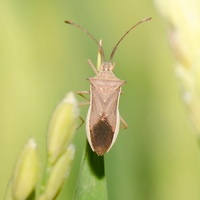insect: (65, 17, 151, 155)
